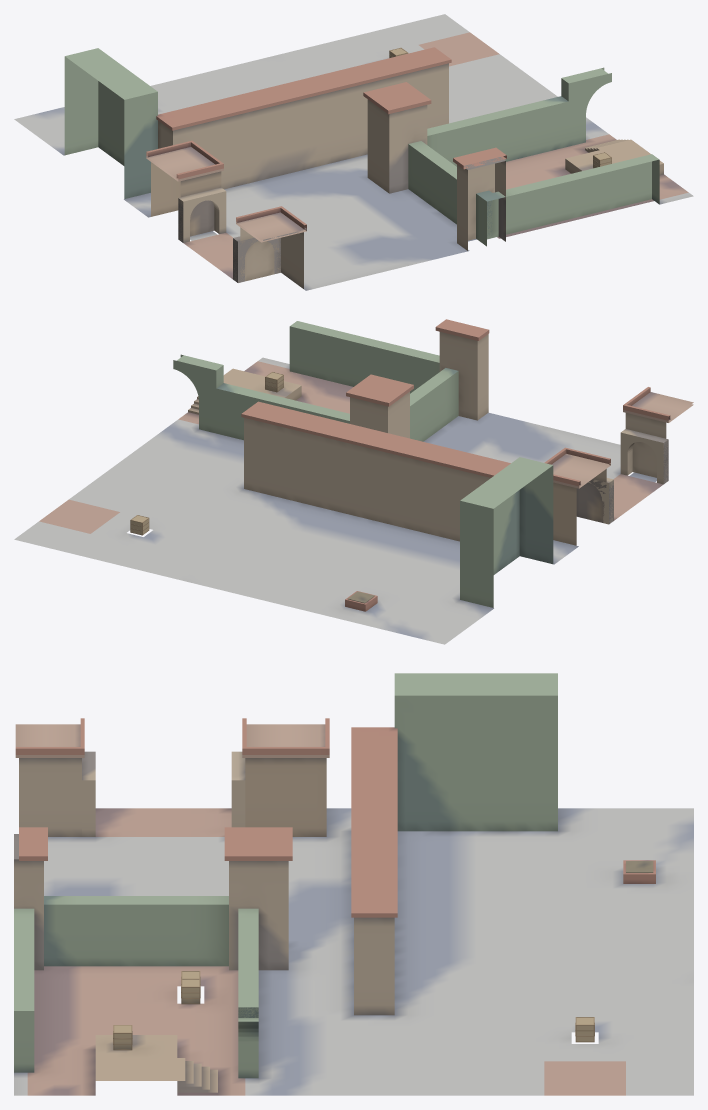
3 renders of one model, top to bottom at view 1: azimuth 30°, elevation 25°; view 2: azimuth 150°, elevation 25°; view 3: azimuth 270°, elevation 25°, orthographic. The views are drawn at different scales.
Visible parts, largest first — view 1: t; view 2: t; view 3: t.
Part boxes in pixels (x1,y1,x2,y2): t: (14, 14, 693, 290); t: (14, 319, 693, 644); t: (14, 673, 693, 1095).
Bounding box in the file's own units: 50.12 × 11 × 50.
